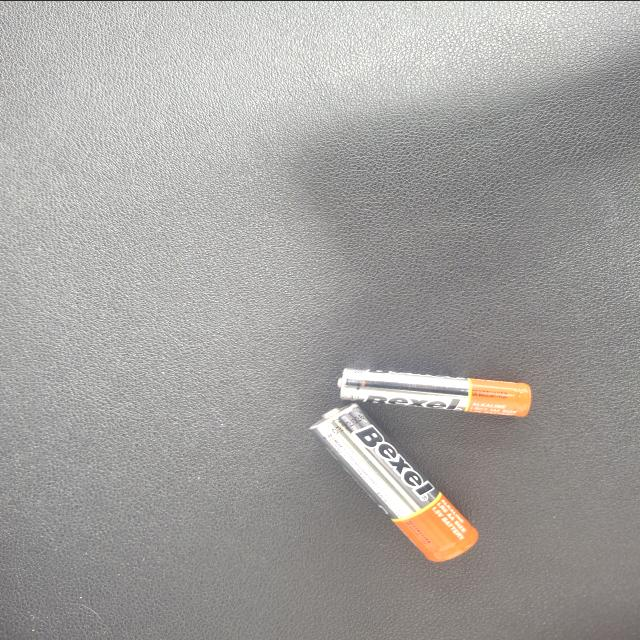AA: (534, 288, 640, 409)
AAA: (489, 244, 556, 388)
